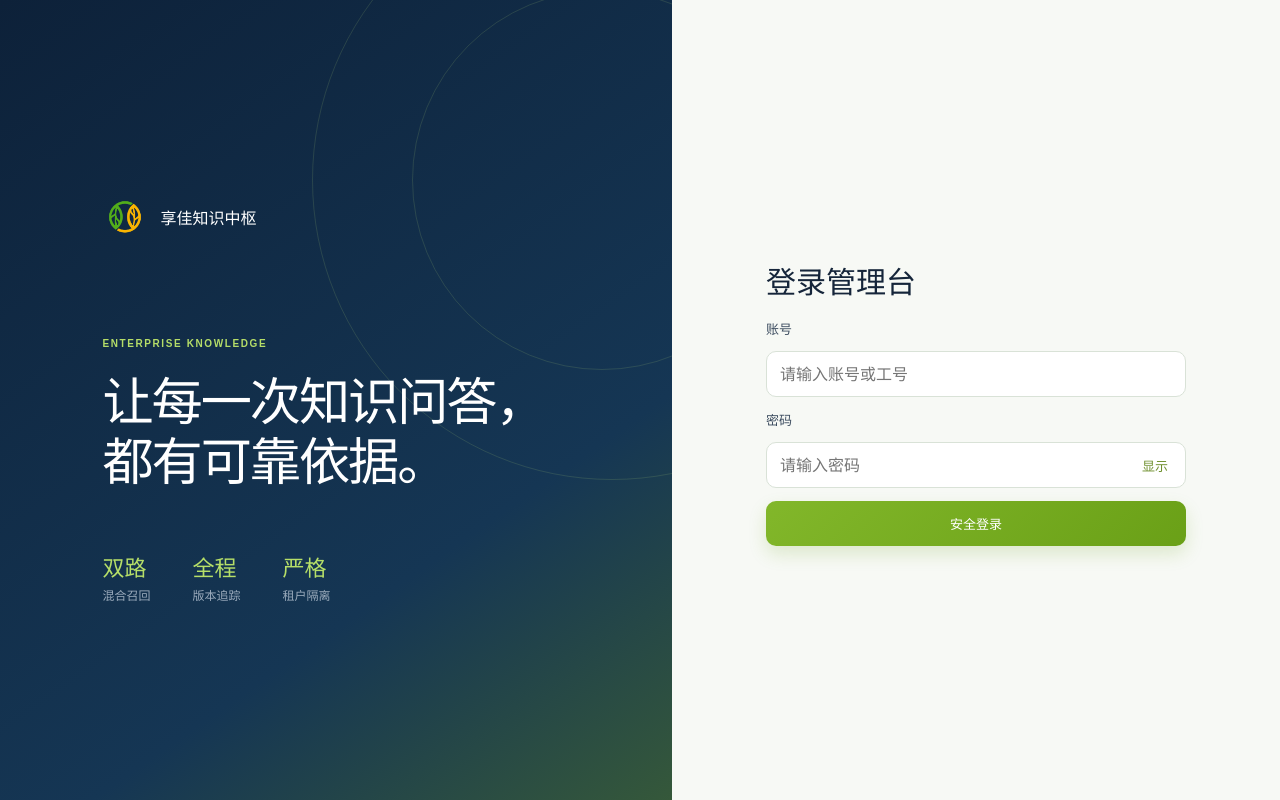
Test: LoginView › toggles password visibility without changing its value
Type "secret" into the password field with placeholder "请输入密码" at (976, 465), box [766, 442, 1186, 488]
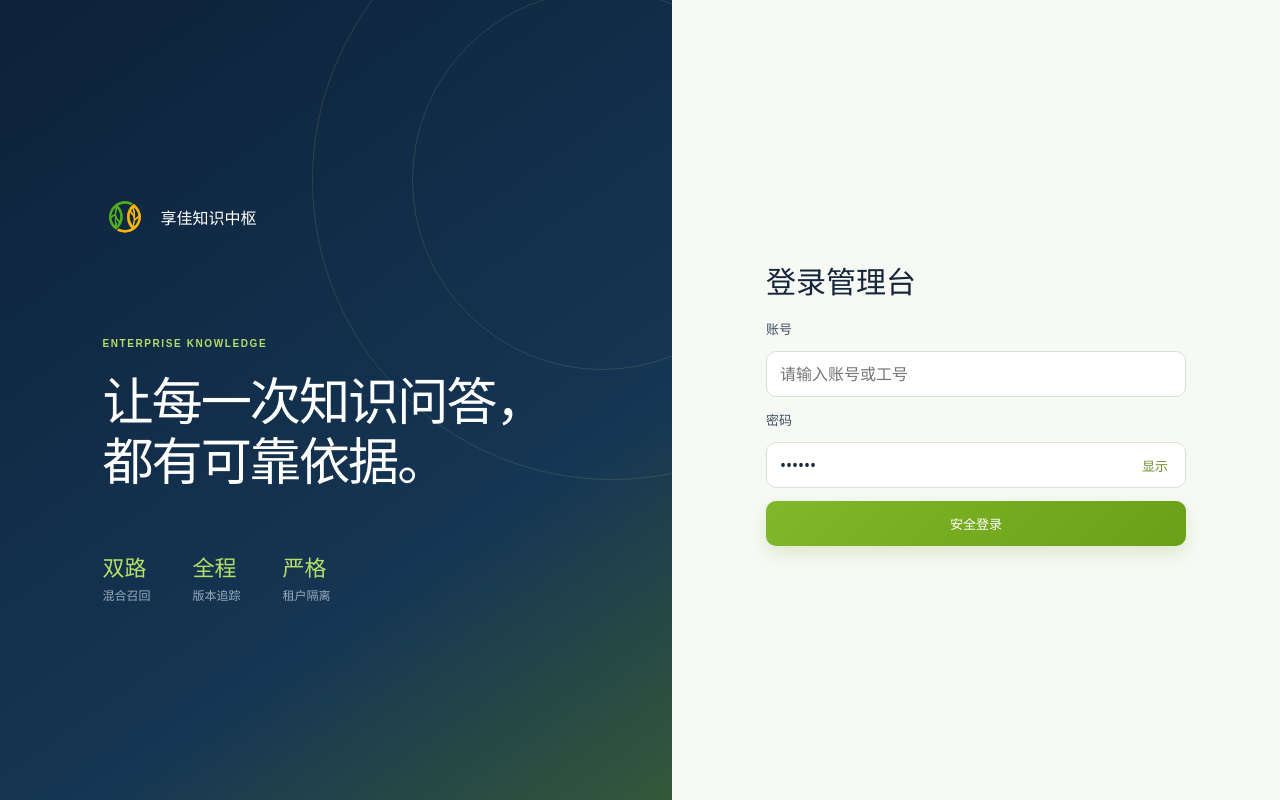
Click the button with aria-label "显示密码" at (1155, 465), box [1137, 448, 1173, 482]
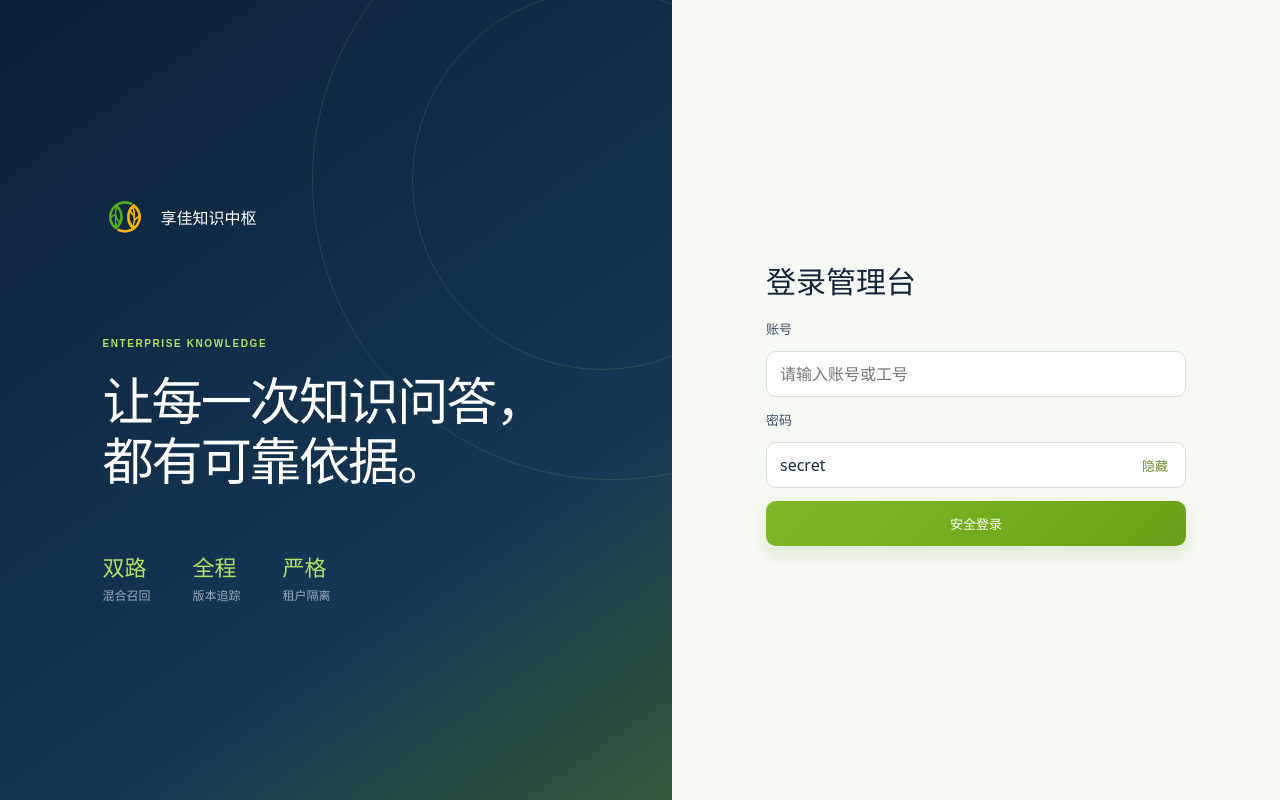
Now the 2nd field shows its text, box [766, 442, 1186, 488]
Click the button with aria-label "隐藏密码" at (1155, 465), box [1137, 448, 1173, 482]
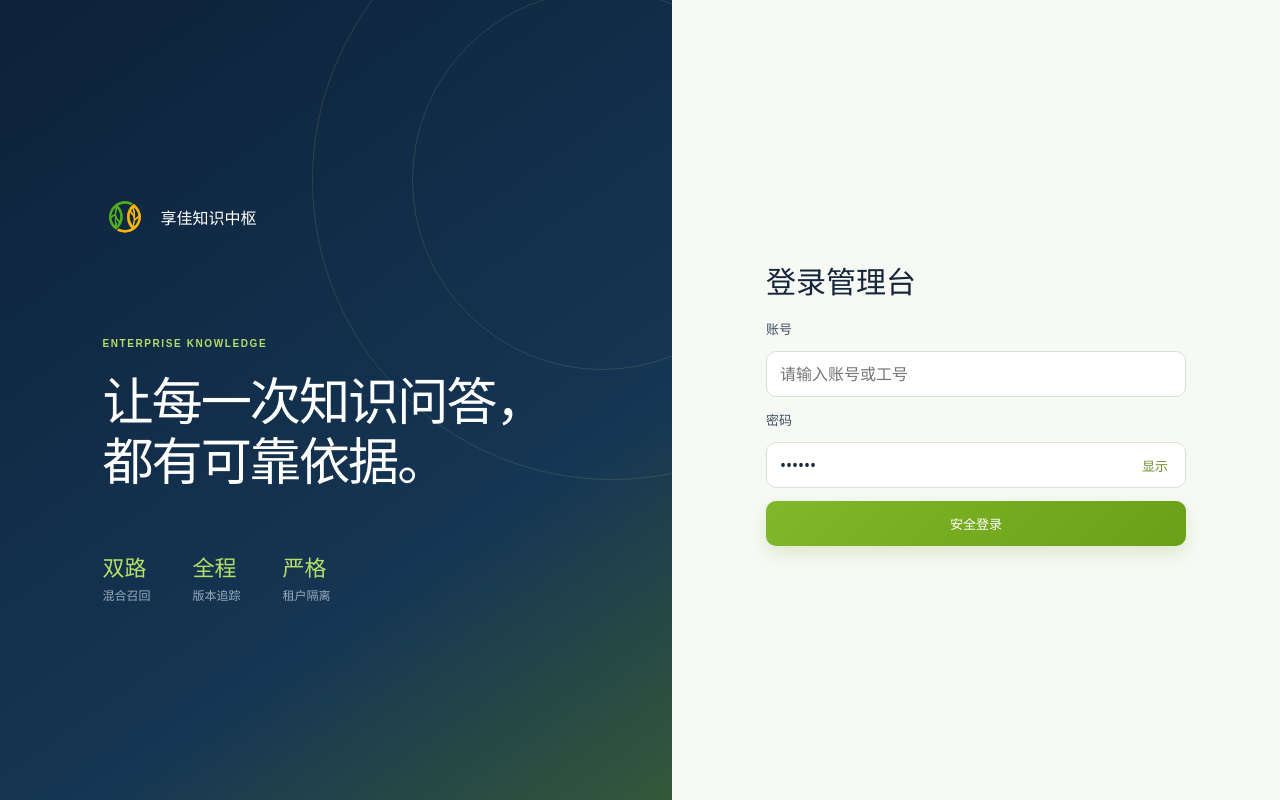
Now the password field hides its text, box [766, 442, 1186, 488]
